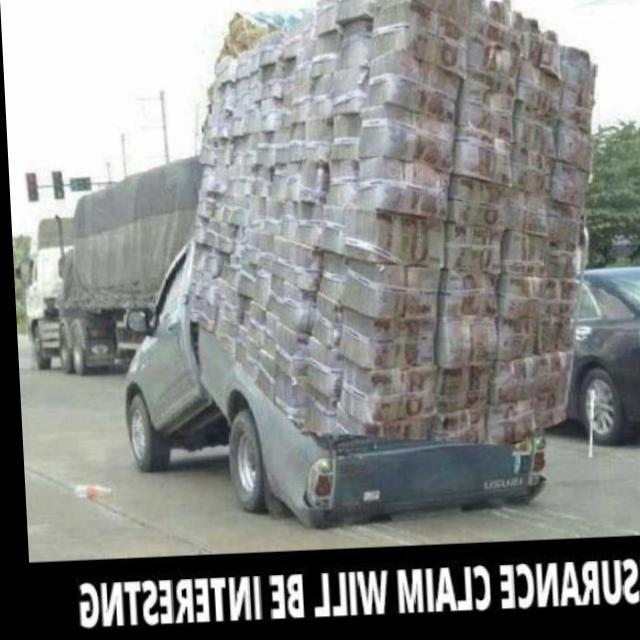uncovered: (92, 16, 608, 497)
